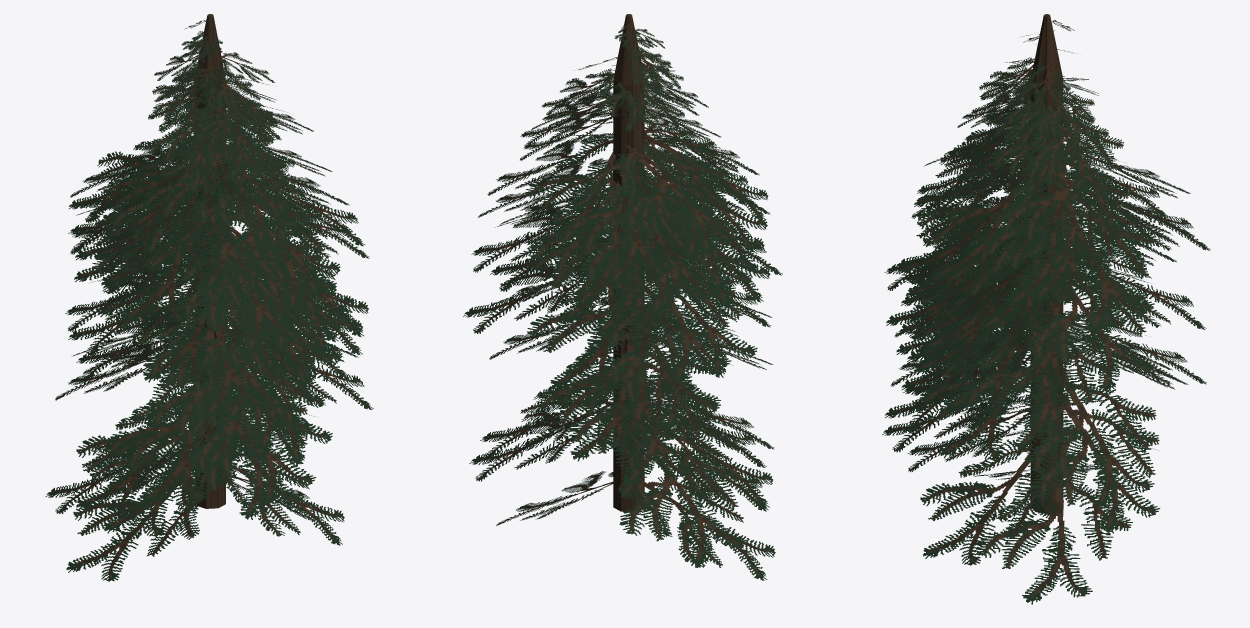
File: PineTree.fbx
3 views of the same model, side by side, from view 1: azimuth 30°, elevation 25°; view 2: azimuth 150°, elevation 25°; view 3: azimuth 270°, elevation 25° (orthographic).
Visible parts, largest first — view 1: Trunk; view 2: Trunk; view 3: Trunk.
Boxes of the visible parts, left/top/right/bottom form: Trunk: left=45, top=14, right=373, bottom=581; Trunk: left=463, top=14, right=782, bottom=580; Trunk: left=882, top=14, right=1210, bottom=604.
Bounding box in the file's own units: 735 × 1086 × 704.
Materials: 2 (2 with a texture image).
